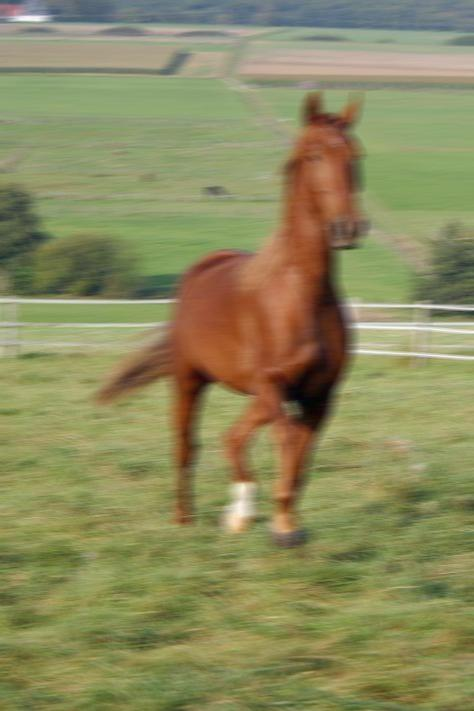horse: (89, 88, 367, 549)
